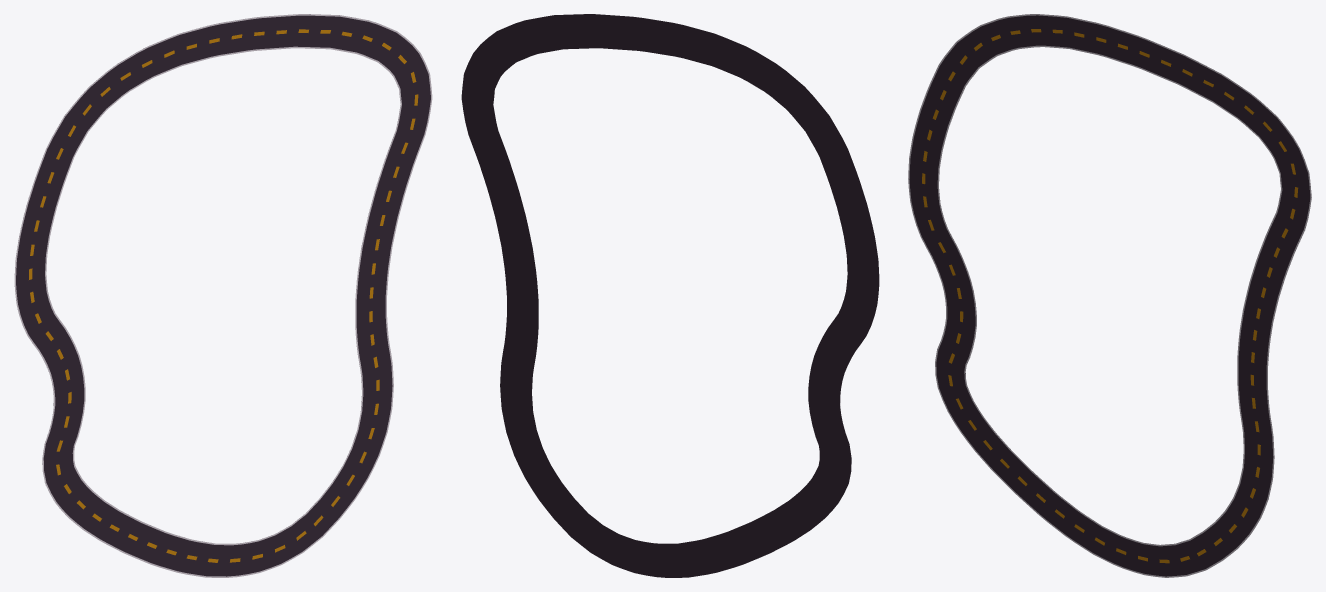
File: track.obj
3 renders of one model, left to right at view 1: azimuth 30°, elevation 25°; view 2: azimuth 150°, elevation 25°; view 3: azimuth 330°, elevation 25°, orthographic. The views are drawn at different scales.
Size of the model in its own units: 12.04 by 15.42 by 0.002.
